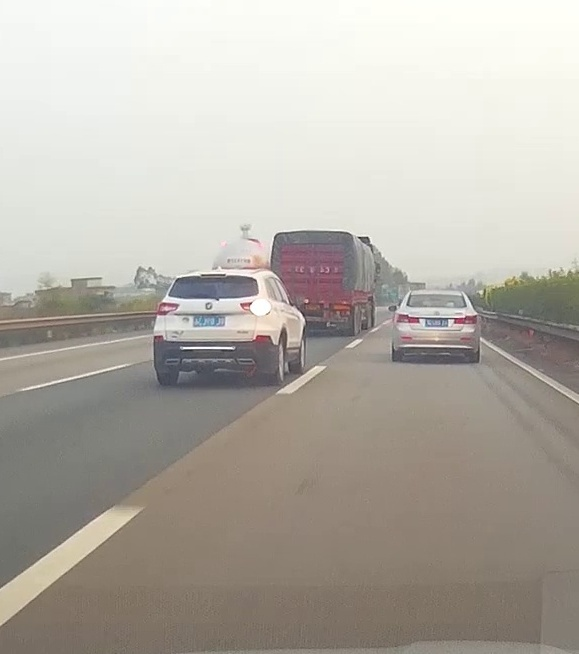L_light: (157, 302, 180, 316), (395, 313, 420, 324)
R_light: (240, 299, 273, 316), (453, 313, 477, 324)
T_light: (200, 273, 226, 277), (430, 293, 442, 297)
day-no: (392, 290, 480, 362)
day-right: (153, 269, 278, 385)
